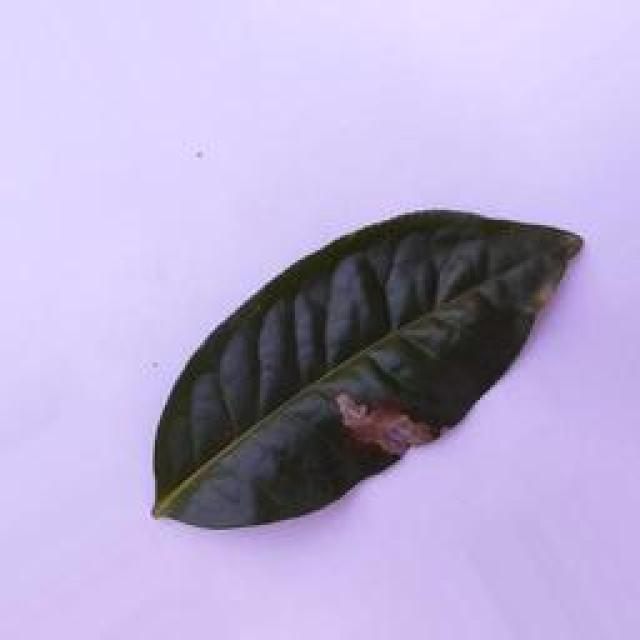Gray Blight: (147, 205, 585, 527)
